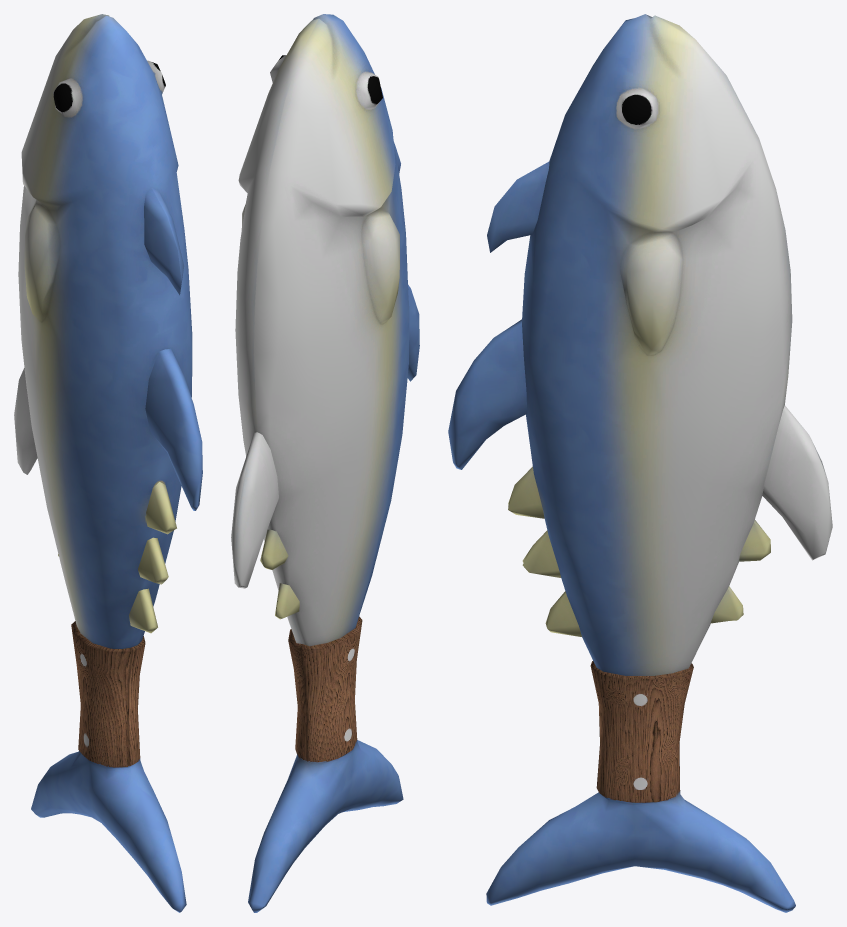
Rendered from MeleeWeaponAgent_GiantSwordFish.fbx.
3 views of the same model, side by side, from view 1: azimuth 30°, elevation 25°; view 2: azimuth 150°, elevation 25°; view 3: azimuth 270°, elevation 25° (orthographic). The views are drawn at different scales.
Parts seen in each view (by area): view 1: WPN_FishGiantSword; view 2: WPN_FishGiantSword; view 3: WPN_FishGiantSword.
Part boxes in pixels (bbox=[...]): WPN_FishGiantSword: bbox=[14, 14, 202, 912]; WPN_FishGiantSword: bbox=[231, 14, 419, 912]; WPN_FishGiantSword: bbox=[448, 14, 832, 912].
Bounding box in the file's own units: 0.304 × 1.65 × 0.6391.
